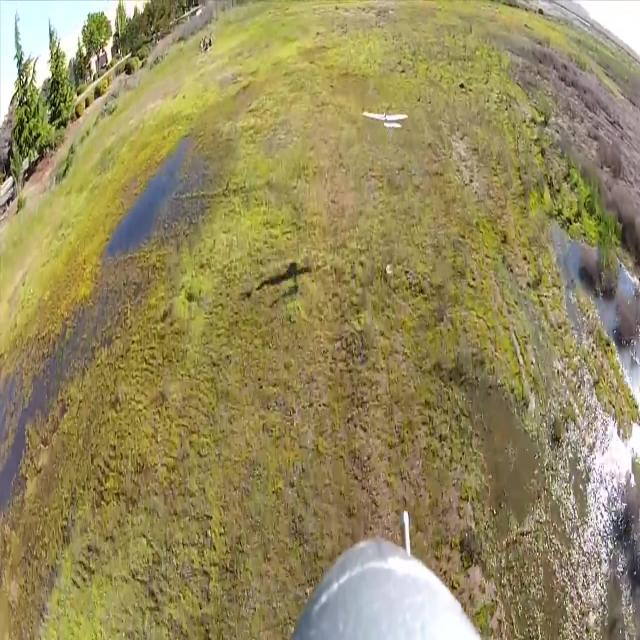iha: (360, 45, 409, 67)
